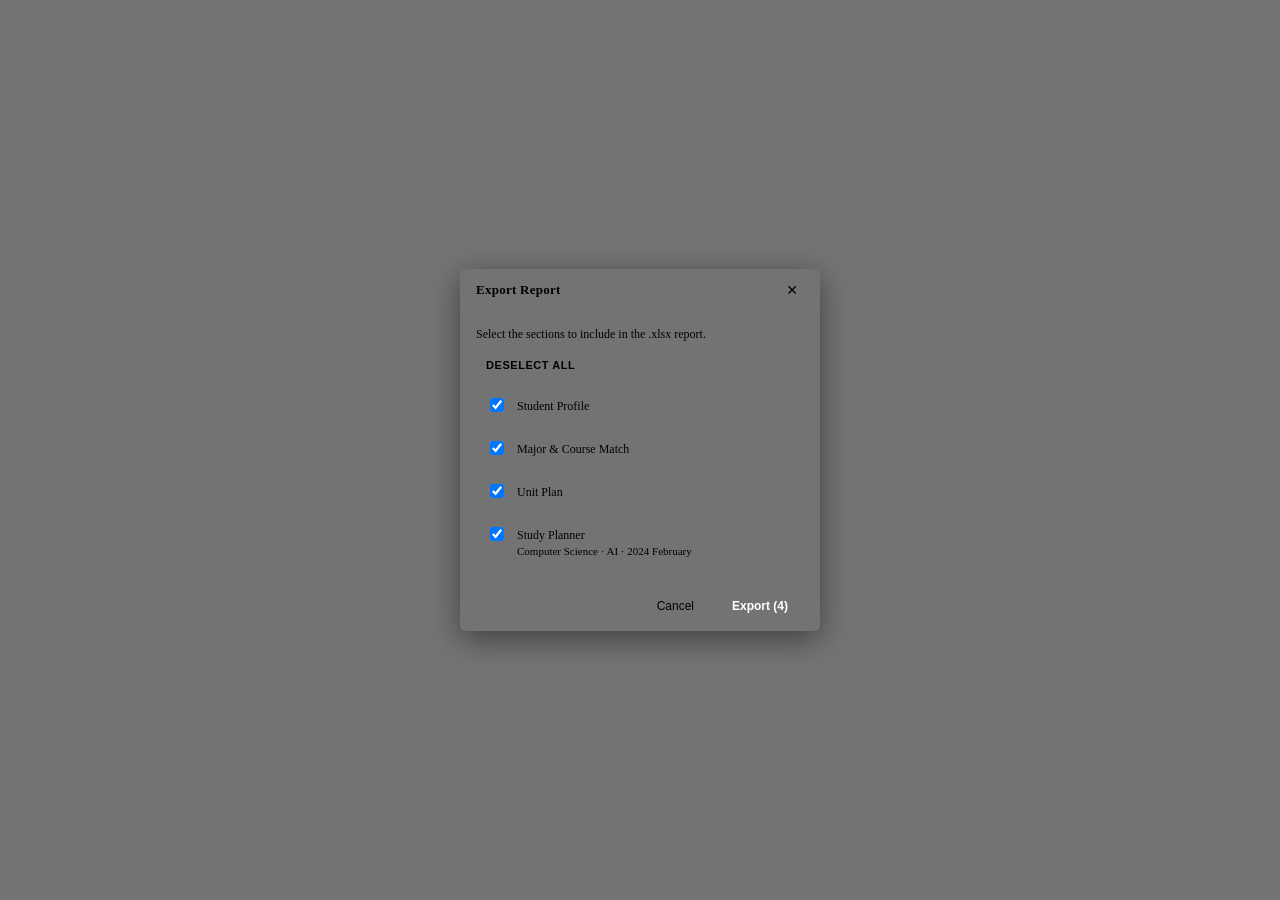
ExportModal › toggles sections and handles "Select All" logic
Click the button "Deselect All".
click(531, 365)  # box [476,354,585,376]
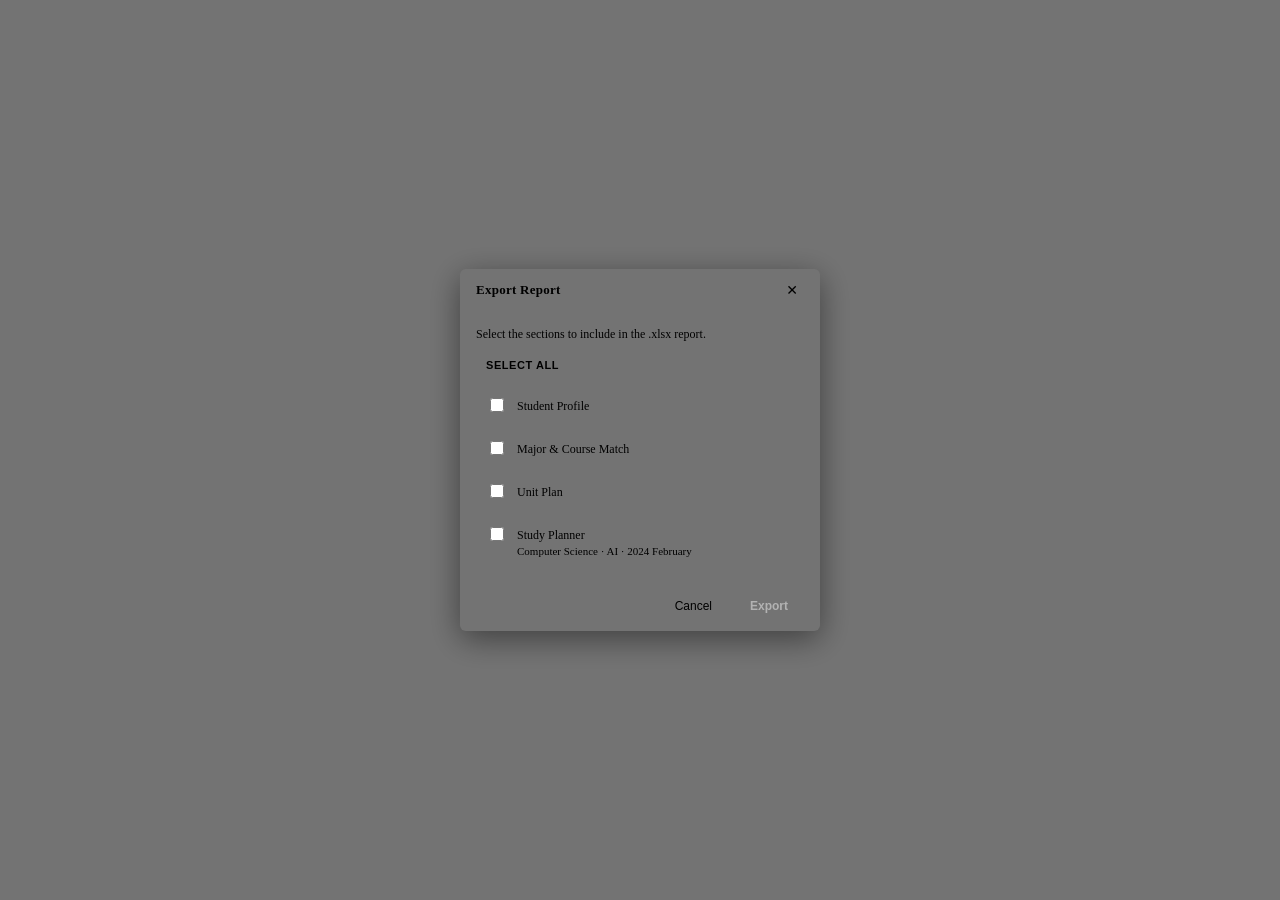
Expected: the button "Select All" is shown, [476,354,569,376]
Expected: the button "Export" is disabled, [734,593,804,619]
